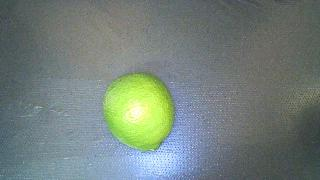EXPORTACION: (103, 72, 175, 151)
